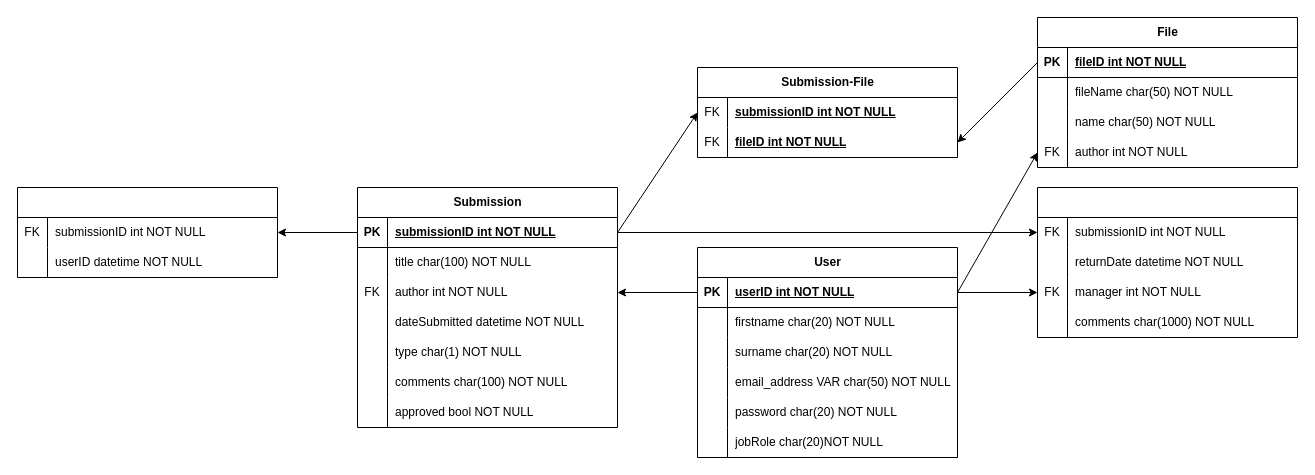
Some shapes in this 1315 by 475 pixel diagram are drawn without their labels. Each missing label, with the box of its shape:
Submission-Coauthor: (16, 186, 278, 278)
SubmissionReturn: (1036, 186, 1298, 338)
